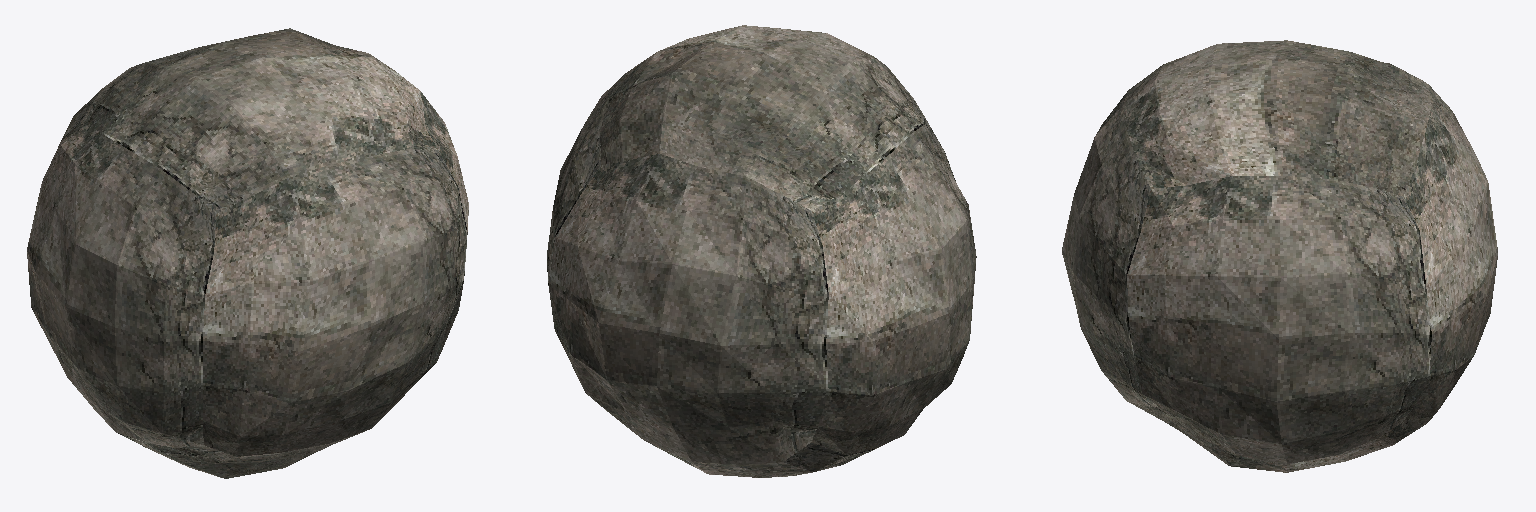
The picture shows the model from 3 angles: view 1: azimuth 30°, elevation 25°; view 2: azimuth 150°, elevation 25°; view 3: azimuth 270°, elevation 25°; orthographic projection.
Visible parts, largest first — view 1: tdr_h_rollingball; view 2: tdr_h_rollingball; view 3: tdr_h_rollingball.
Part boxes in pixels (x1,y1,x2,y2): tdr_h_rollingball: (27,28,468,478); tdr_h_rollingball: (547,25,976,477); tdr_h_rollingball: (1062,40,1497,472).
Bounding box in the file's own units: 1000 × 1028 × 1018.
Materials: 1 (1 with a texture image).